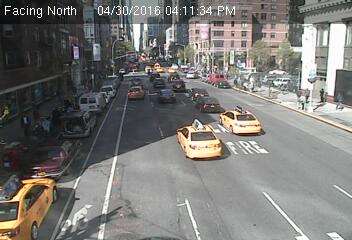neg: (241, 24, 263, 54), (270, 26, 292, 56), (291, 27, 312, 55), (37, 24, 57, 51), (145, 24, 164, 50), (313, 25, 332, 50), (223, 26, 241, 50), (102, 31, 120, 55), (261, 25, 278, 48), (166, 29, 182, 51), (74, 26, 90, 47), (178, 26, 192, 45), (88, 61, 102, 80), (195, 33, 209, 51), (145, 29, 159, 47), (77, 58, 90, 75), (60, 51, 71, 67), (93, 16, 104, 31), (42, 53, 52, 66)
pos: (15, 110, 32, 132), (331, 88, 345, 107), (237, 76, 251, 94), (301, 84, 314, 100), (317, 84, 329, 100), (294, 83, 306, 99), (250, 80, 260, 93), (232, 74, 241, 86)
